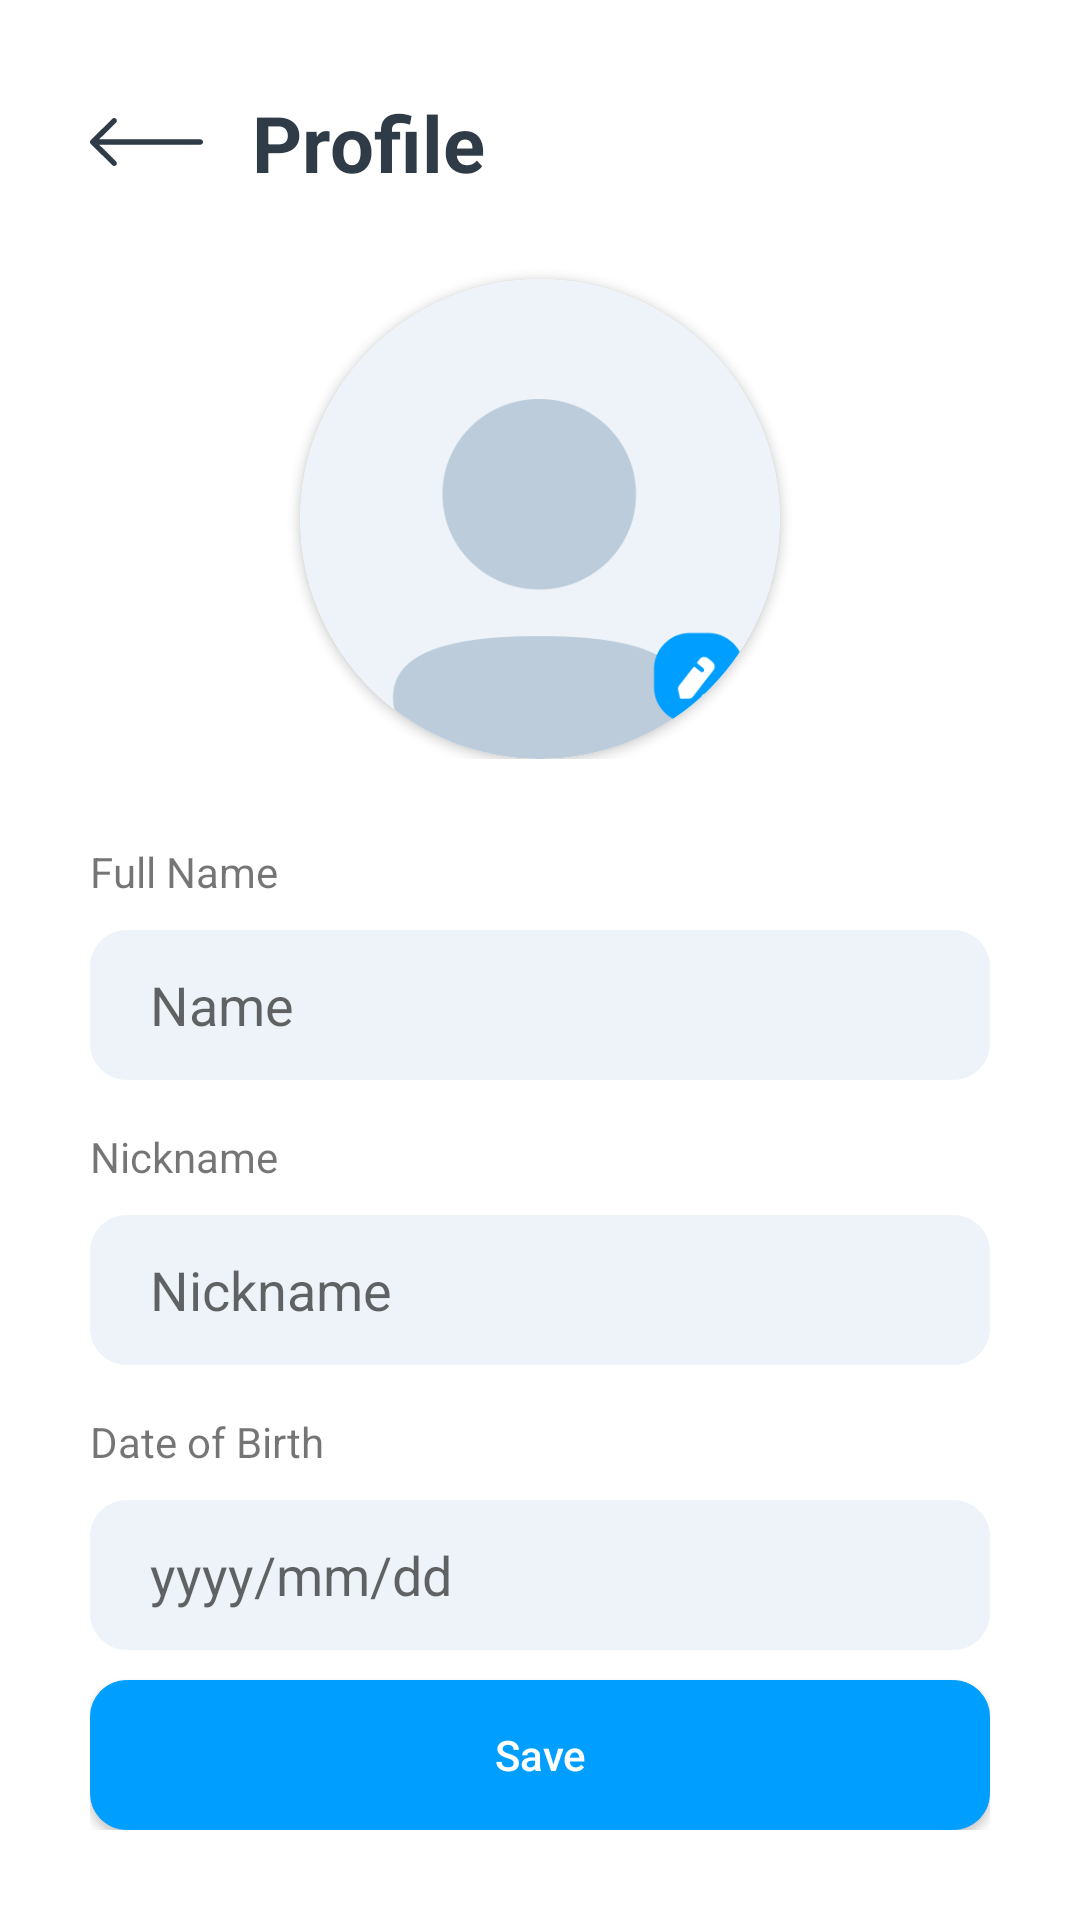

Icons on this 1080 × 1920 Android screen, each with the point to tap as (x=x, y=y):
backward: (x=146, y=142)
